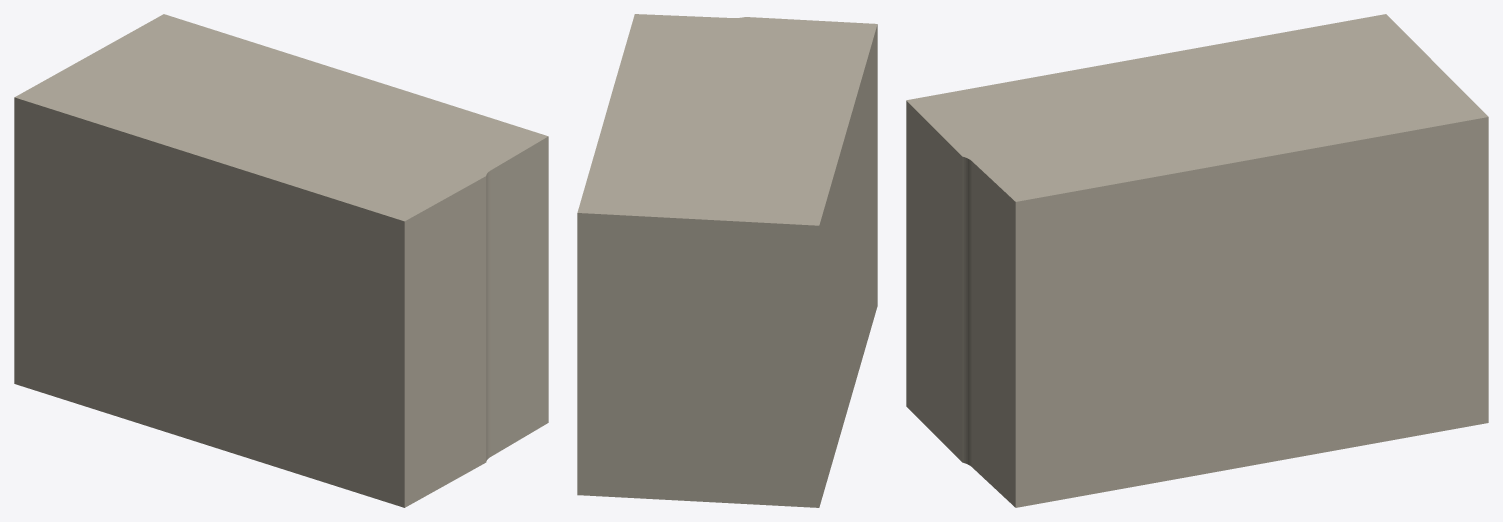
Rendered from senglea_60_25_mid.glb.
3 views of the same model, side by side, from view 1: azimuth 30°, elevation 25°; view 2: azimuth 150°, elevation 25°; view 3: azimuth 270°, elevation 25° (orthographic). The views are drawn at different scales.
Parts seen in each view (by area): view 1: geometry_0; view 2: geometry_0; view 3: geometry_0.
Part boxes in pixels (<box>): geometry_0: <box>14,14,548,507</box>; geometry_0: <box>577,14,877,507</box>; geometry_0: <box>906,14,1488,507</box>.
Bounding box in the file's own units: 17.77 × 13.49 × 23.27.
